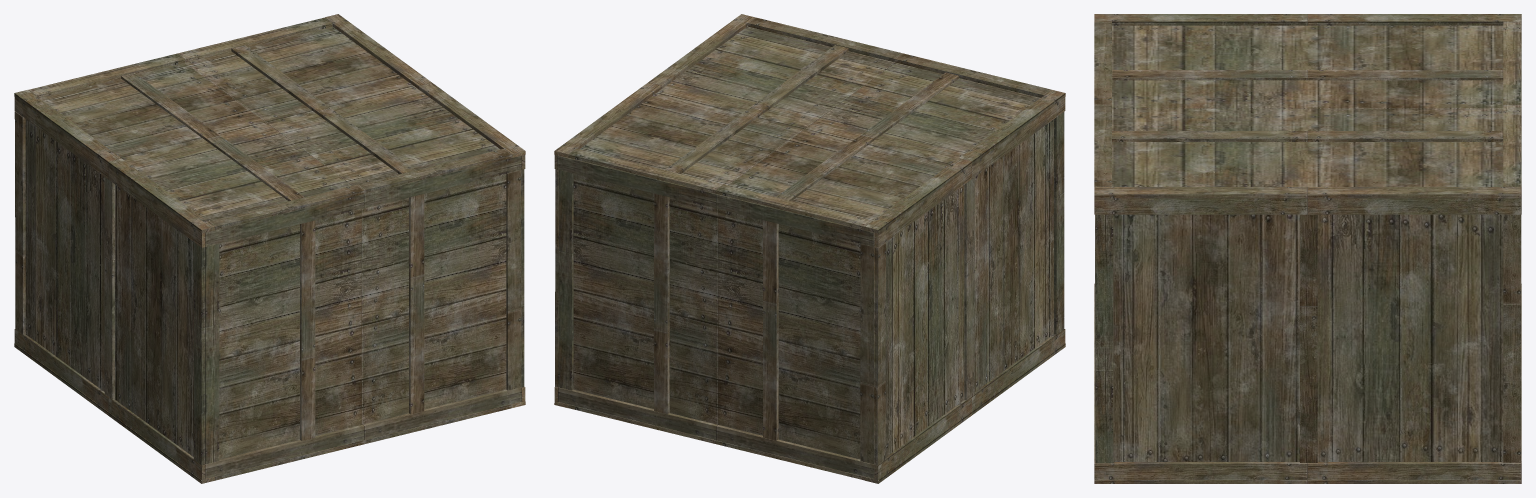
Rendered from prop_crate_largeshipping1.glb.
3 views of the same model, side by side, from view 1: azimuth 30°, elevation 25°; view 2: azimuth 150°, elevation 25°; view 3: azimuth 270°, elevation 25° (orthographic). The views are drawn at different scales.
Size of the model in its own units: 96 by 71.85 by 96.08.
Materials: 1 (1 with a texture image).
